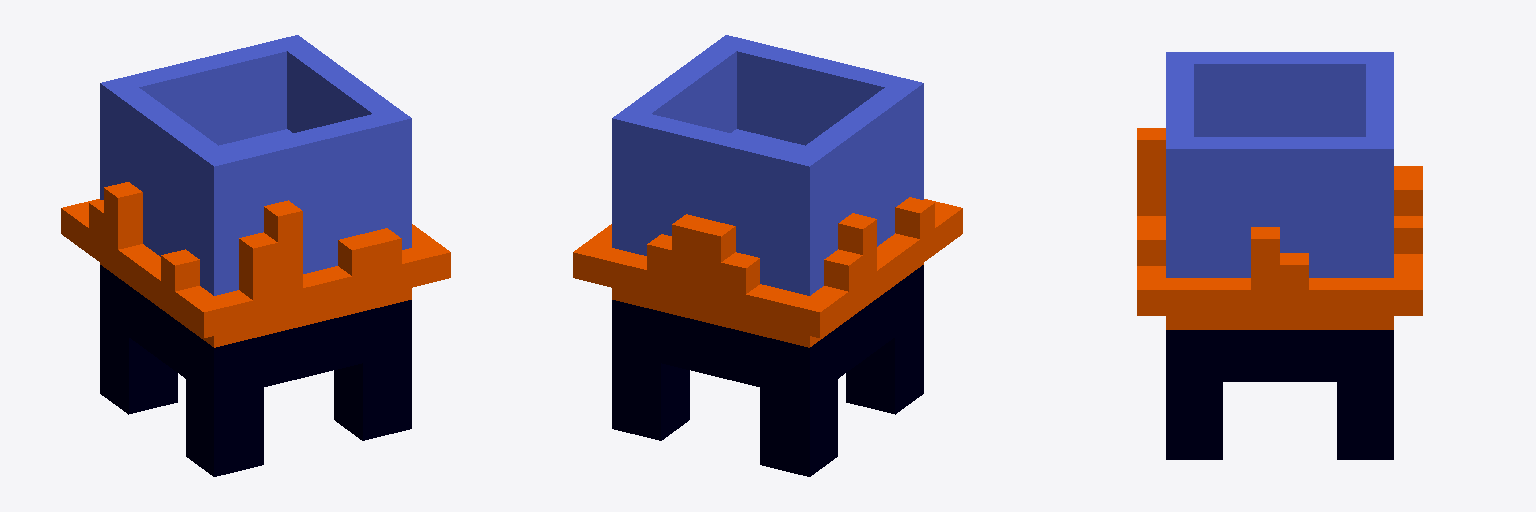
3 renders of one model, left to right at view 1: azimuth 30°, elevation 25°; view 2: azimuth 150°, elevation 25°; view 3: azimuth 270°, elevation 25°, orthographic.
Parts seen in each view (by area): view 1: object 1; view 2: object 1; view 3: object 1.
Part boxes in pixels (x1,y1,x2,y2): object 1: (61, 35, 450, 476); object 1: (573, 35, 962, 476); object 1: (1137, 52, 1422, 459).
Bounding box in the file's own units: 1 × 1.2 × 1.
1 materials, 1 textured.